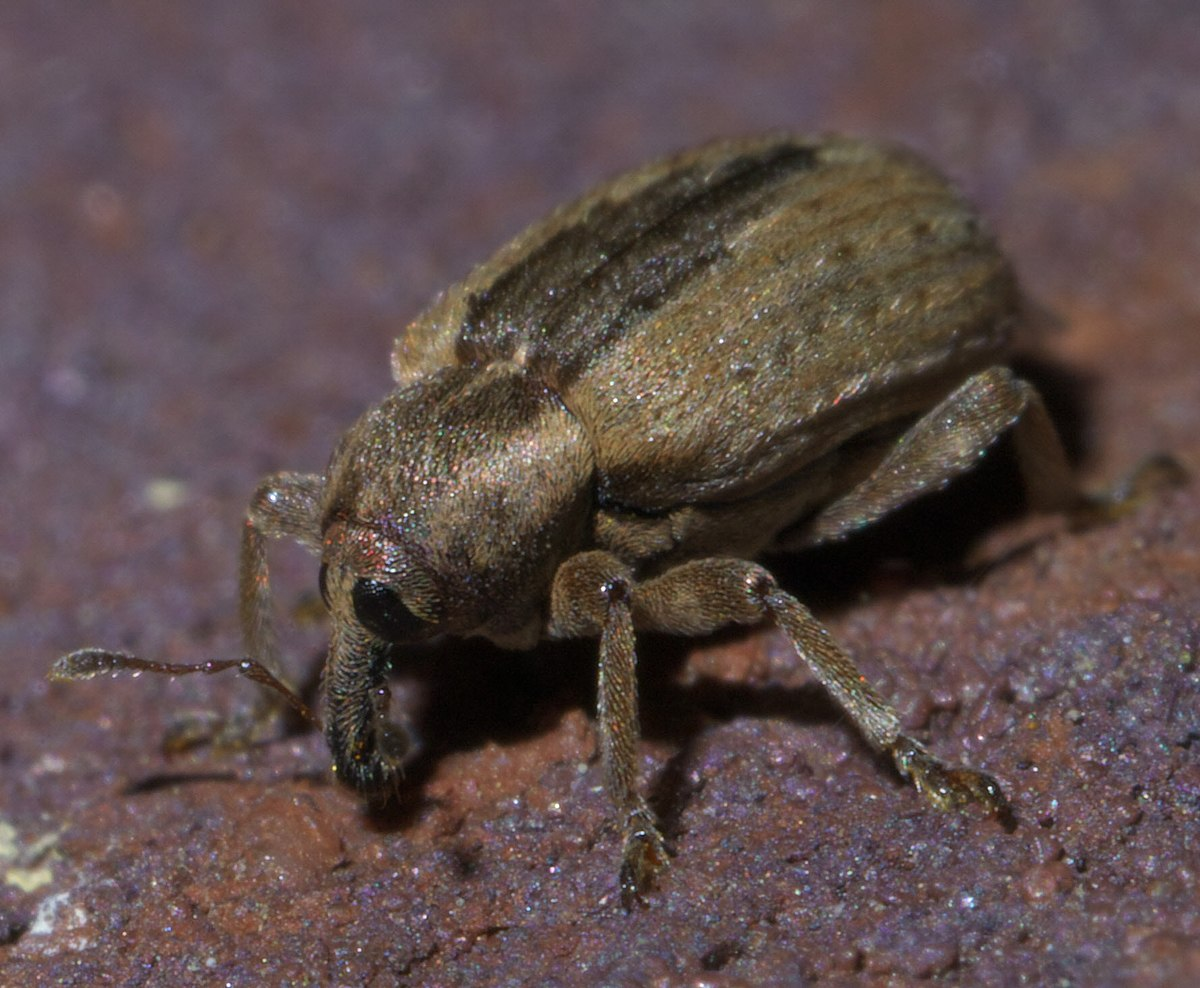dolgonosik: (56, 126, 1087, 901)
